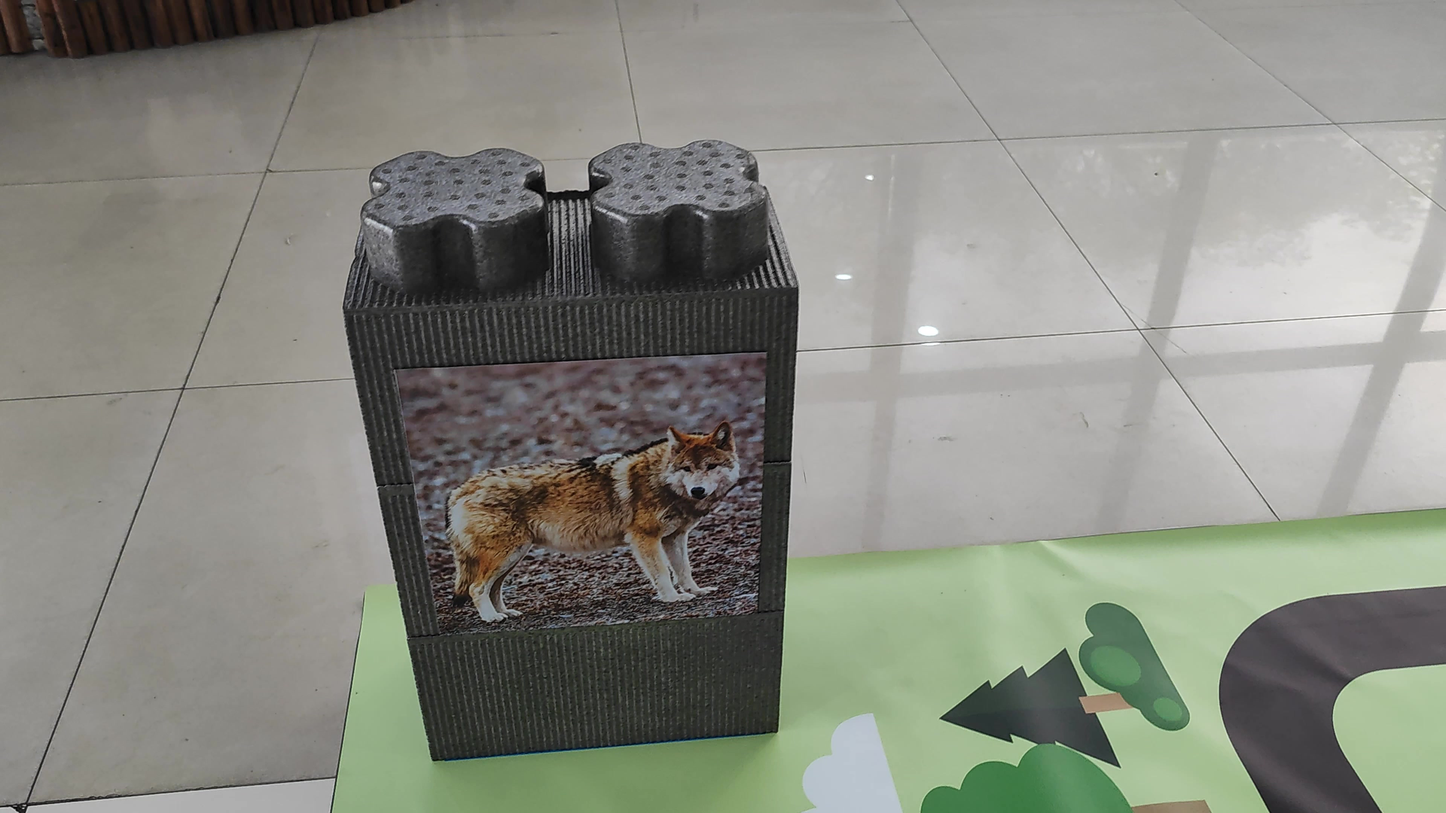wolf: (431, 406, 737, 641)
